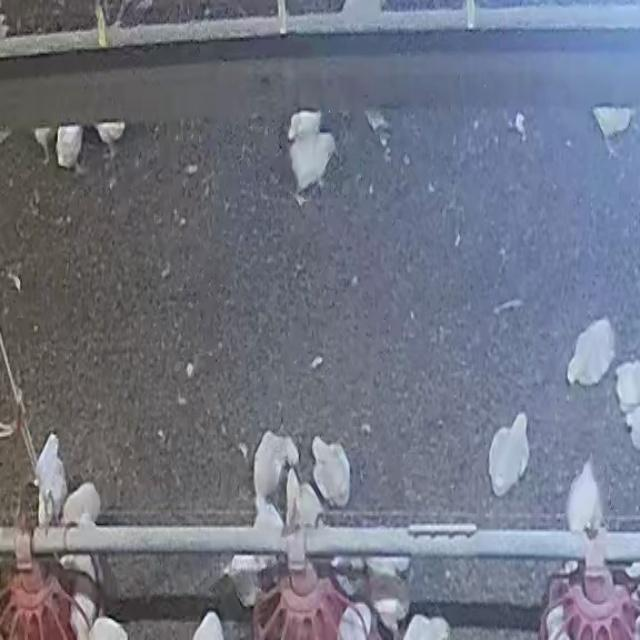chicken: (286, 131, 343, 202), (485, 412, 533, 494), (563, 318, 618, 388), (242, 432, 298, 498), (33, 431, 68, 525), (562, 452, 602, 533), (311, 435, 353, 507), (284, 469, 331, 526), (373, 577, 412, 636), (59, 480, 102, 527), (594, 106, 634, 152), (57, 120, 88, 175), (71, 568, 95, 635), (400, 610, 451, 640), (82, 613, 126, 640), (336, 600, 366, 639), (192, 609, 224, 640)
